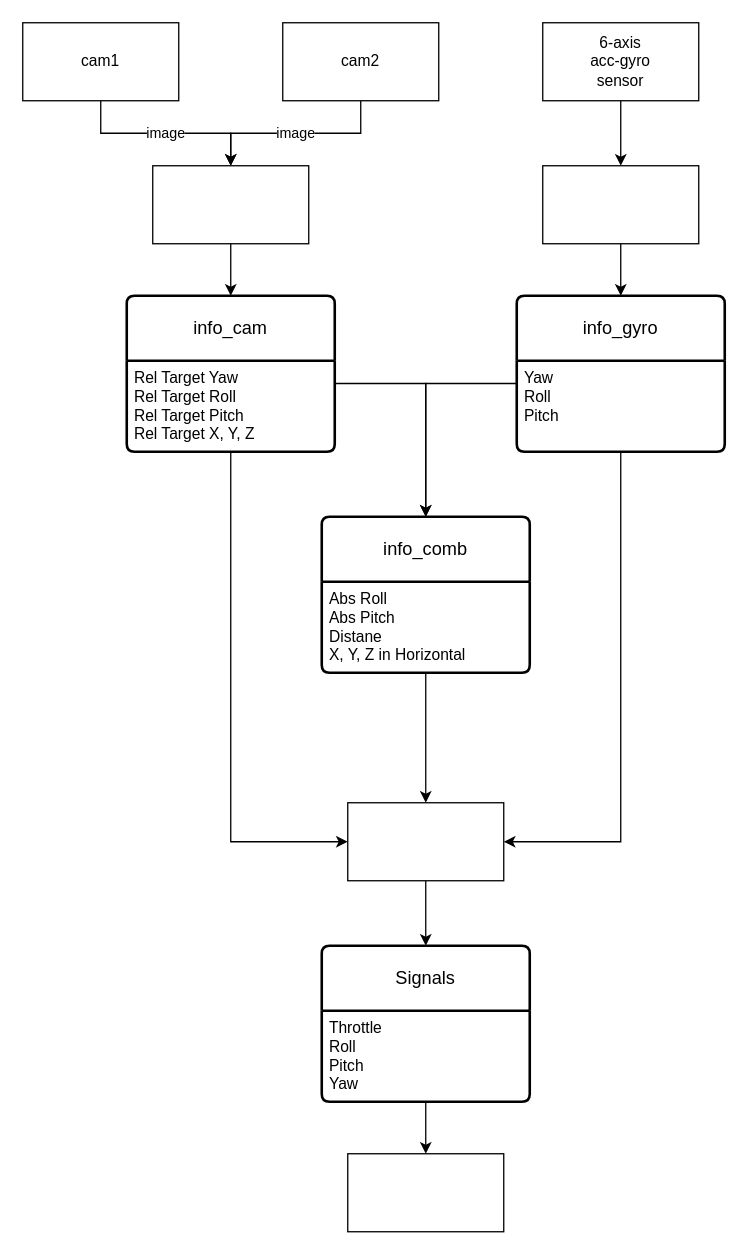
Some shapes in this 749 by 1255 pixel diagram are drawn without their labels. Each missing label, with the centre of its shape:
"Controller" goes at (x=425, y=841).
"Digital Motion Processor" goes at (x=620, y=204).
"openCV" goes at (x=230, y=204).
"RF Transmitter" goes at (x=425, y=1192).
